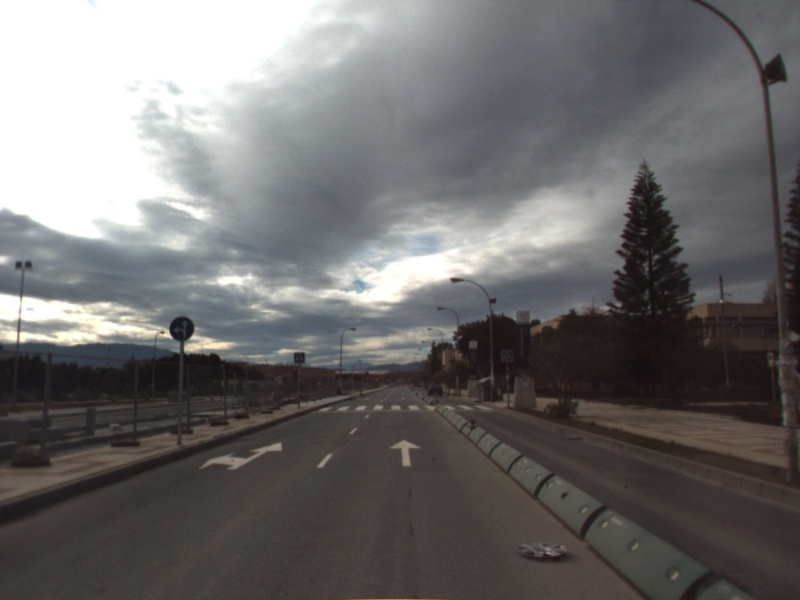STRAIGHT: (388, 436, 423, 469)
STRAIGHT_LEFT: (197, 440, 284, 472)
